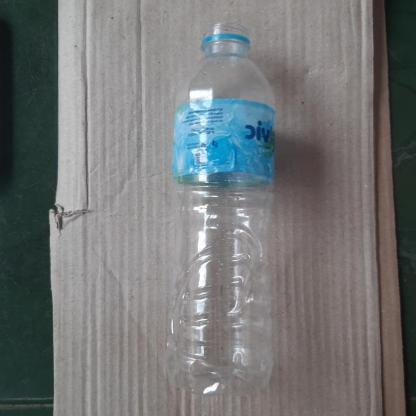Plastic Bottle: (164, 23, 278, 399)
